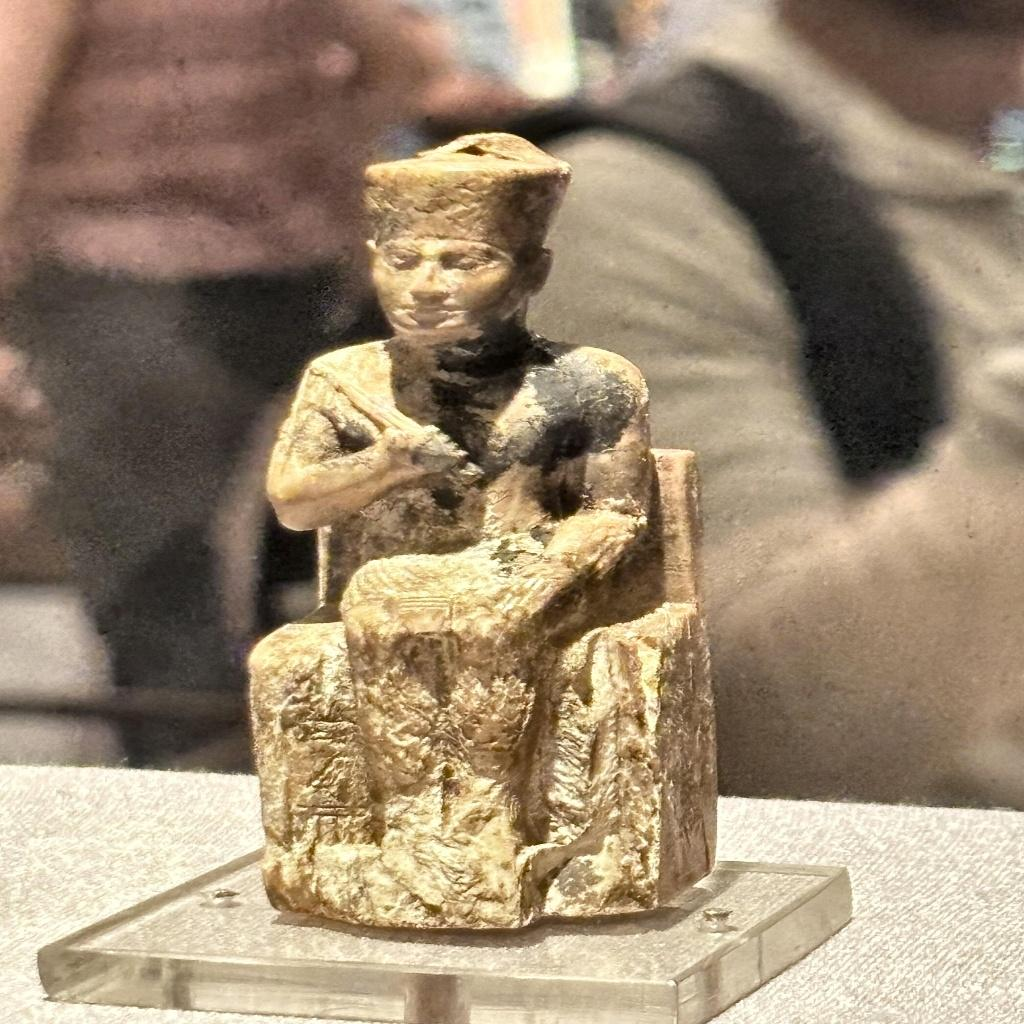Statue of Khufu: (244, 130, 714, 920)
